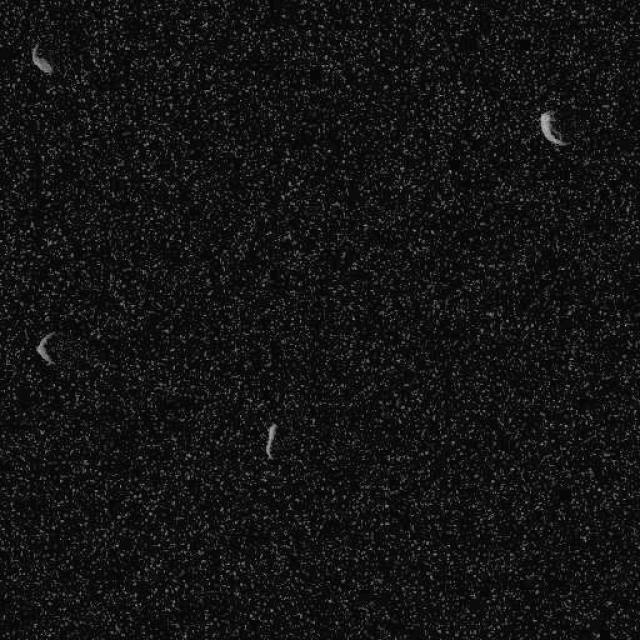D2: (539, 108, 571, 148), (34, 330, 58, 365), (30, 41, 54, 75), (264, 421, 278, 460)
